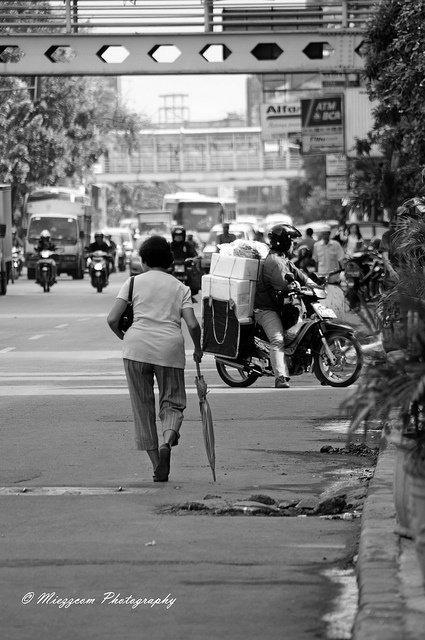non-vehicle: (210, 270, 356, 389), (342, 248, 377, 306), (165, 256, 201, 303), (29, 250, 59, 293), (85, 251, 112, 293), (9, 243, 20, 284)
